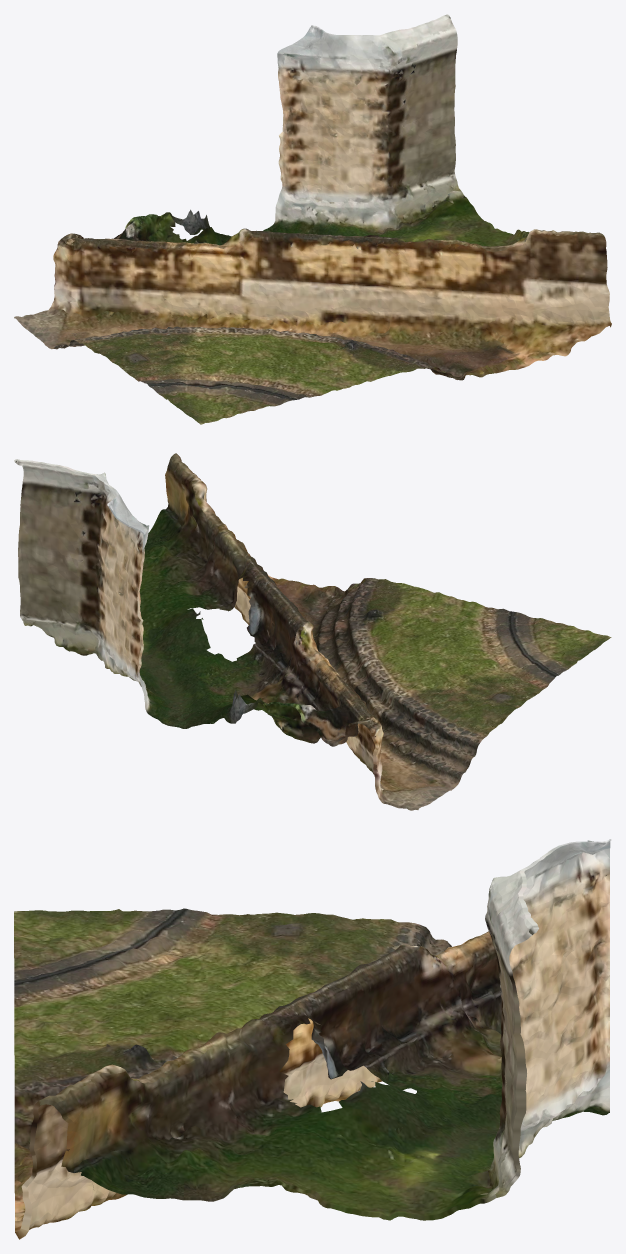
3 renders of one model, top to bottom at view 1: azimuth 30°, elevation 25°; view 2: azimuth 150°, elevation 25°; view 3: azimuth 270°, elevation 25°, orthographic. The views are drawn at different scales.
Visible parts, largest first — view 1: node_8; view 2: node_8; view 3: node_8.
Part boxes in pixels (<box>): node_8: <box>14,14,611,424</box>; node_8: <box>14,453,611,810</box>; node_8: <box>14,839,611,1239</box>.
Size of the model in its own units: 9.46 by 4.92 by 7.43.
1 material, 1 textured.
